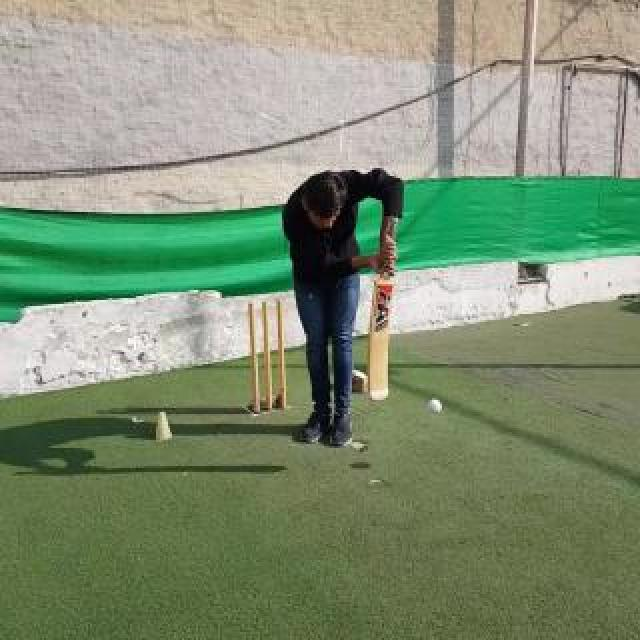ball: (428, 398, 442, 414)
bat: (366, 218, 400, 402)
